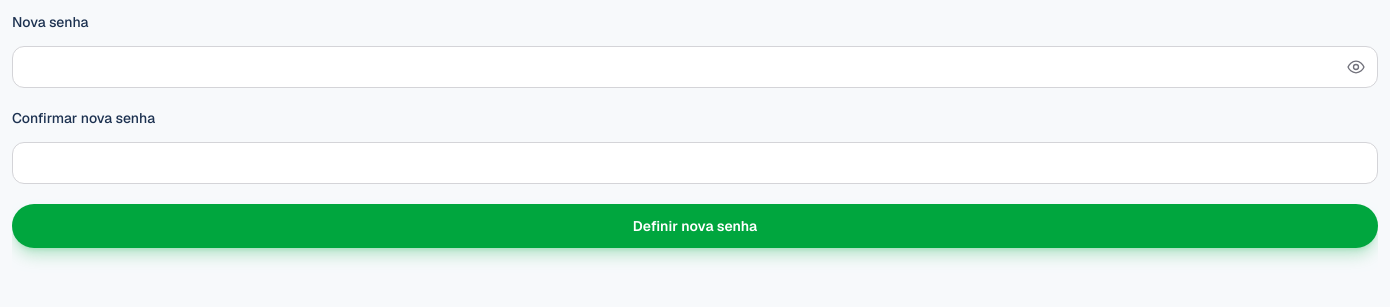
Scenario: PrimeiroAcessoForm › rejeita senha curta na validação client
Type "12345" into the password field labelled "Nova senha". click: [695, 67]
box: [12,46,1378,88]
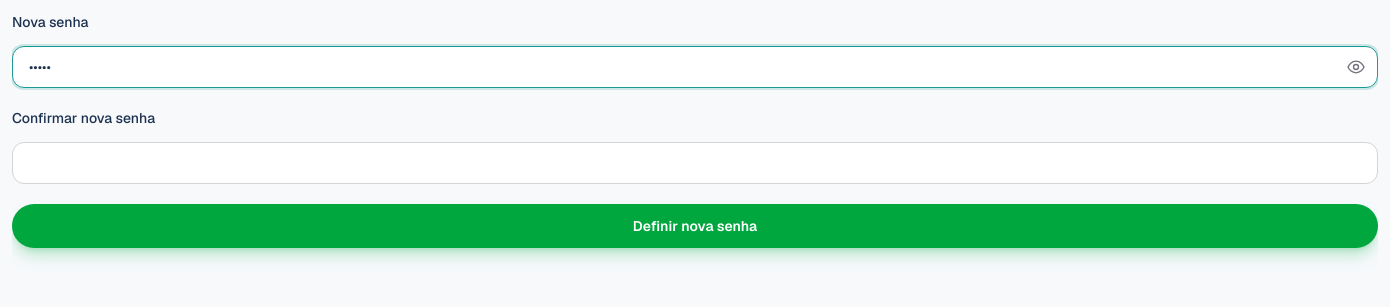
Type "12345" into the password field labelled "Confirmar nova senha". click: [695, 163]
box: [12,142,1378,184]
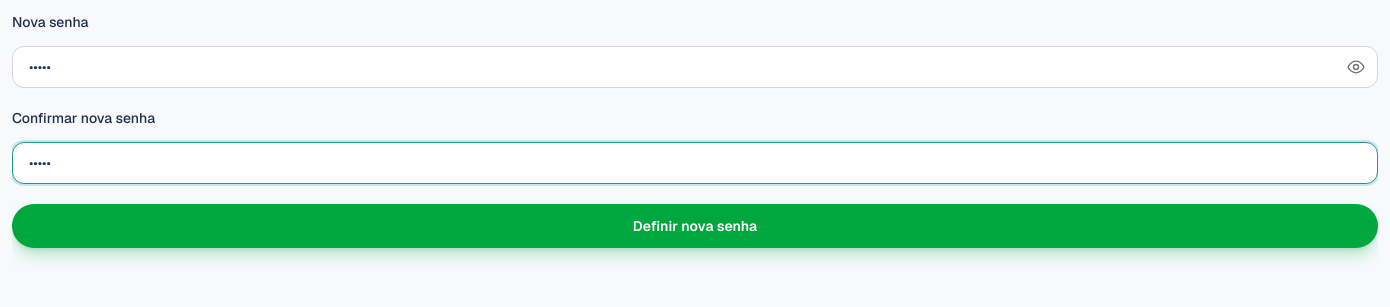
Click the button "Definir nova senha". click: [695, 226]
box: [12,204,1378,248]
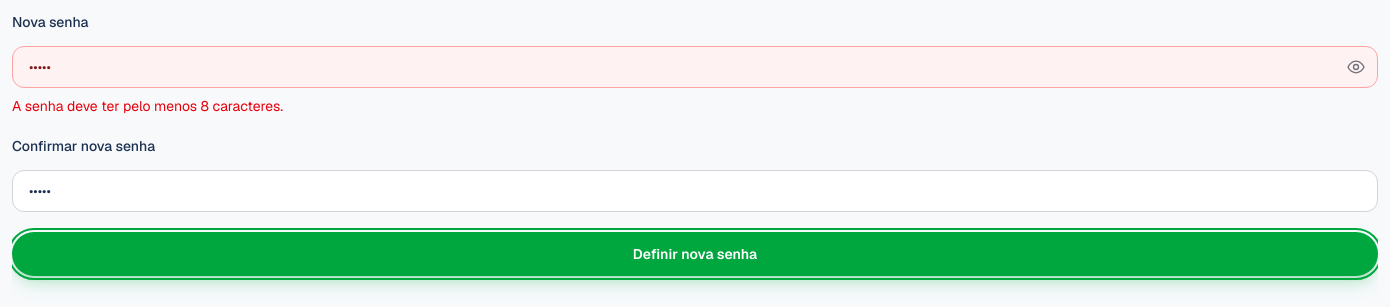
Now the text "A senha deve ter pelo menos 8 caracteres." is shown, box [12,97,283,115]
